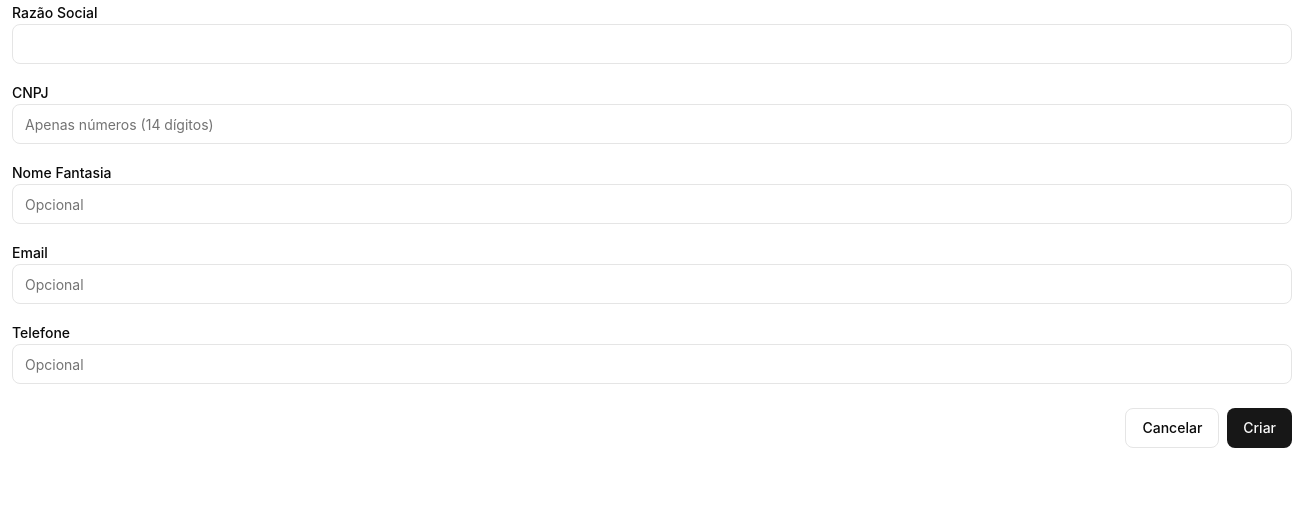
ConsultoriaFundoForm — create mode › shows required error on empty submit
Click the button "Criar" at (1260,428), box left=1227, top=408, right=1292, bottom=448
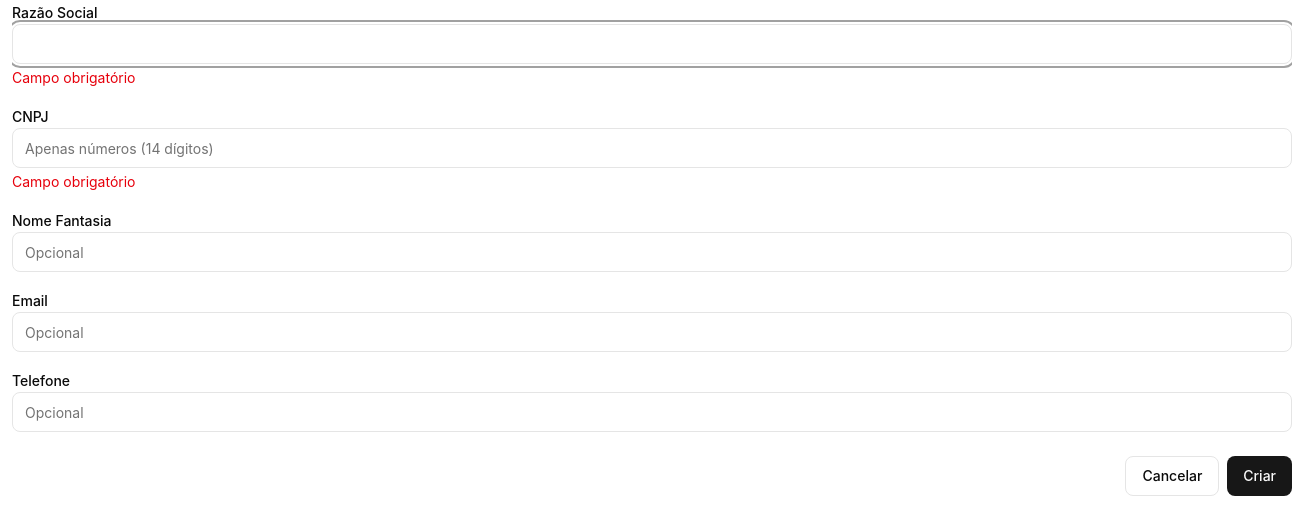
Check: the text "Campo obrigatório" below "Razão Social" is shown, box left=12, top=69, right=136, bottom=86
